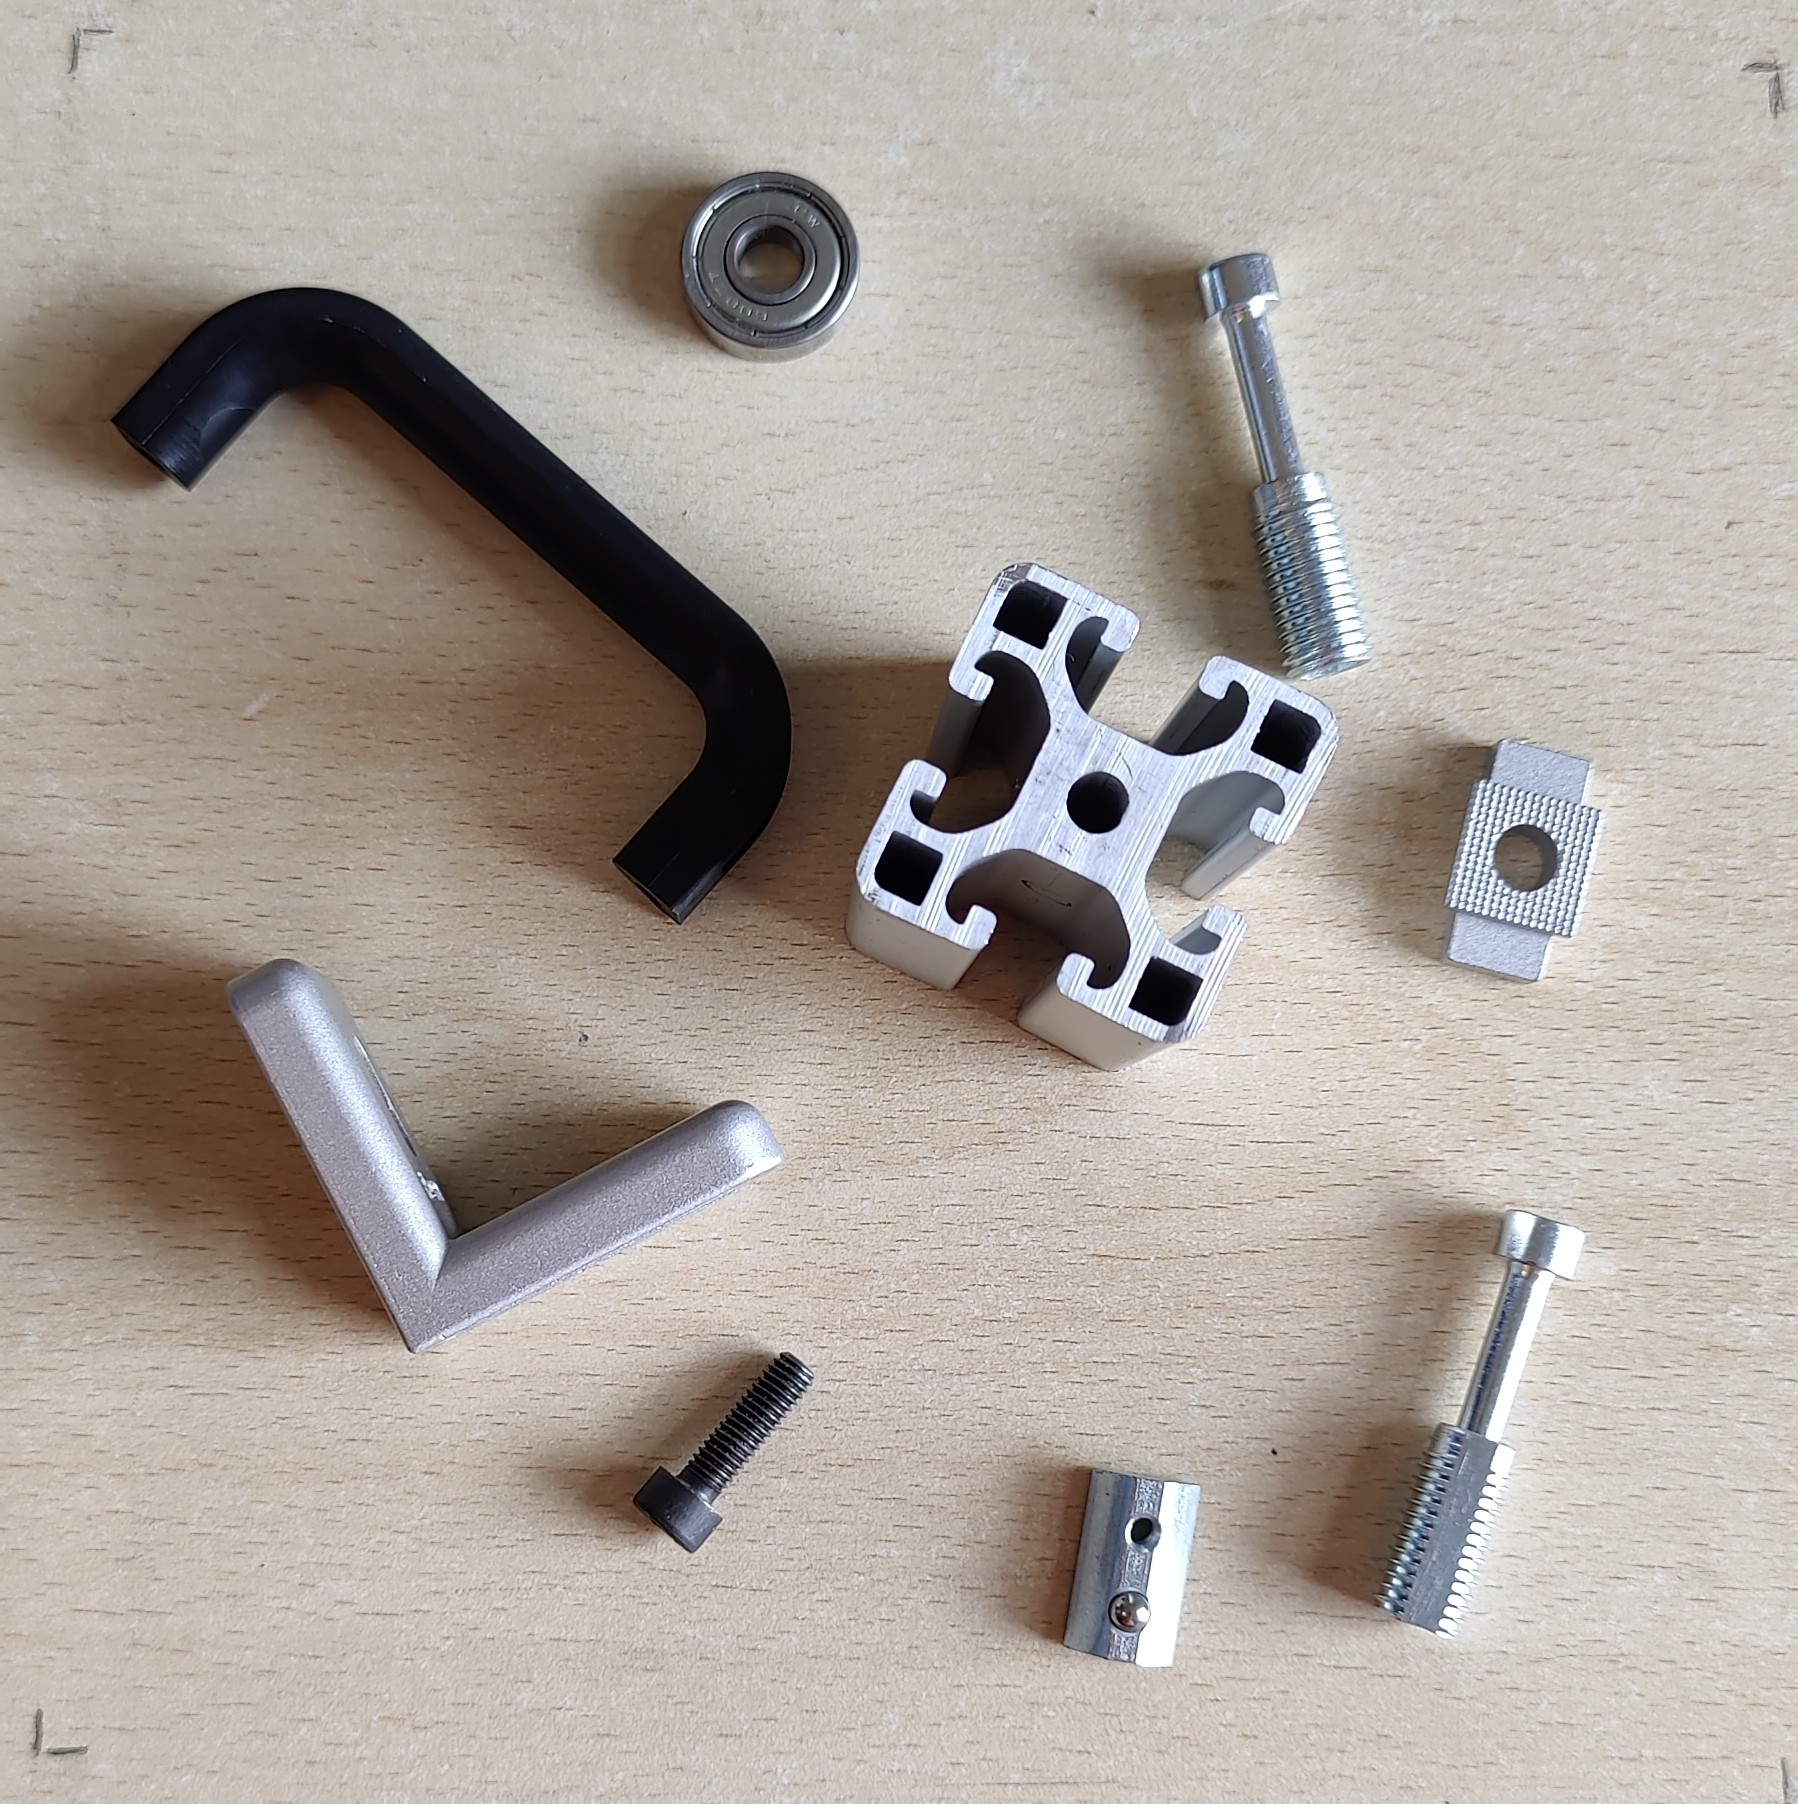Aluminium Extension: (840, 560, 1340, 1075)
Ball Bearing: (678, 168, 863, 367)
Multiwinkel: (226, 956, 789, 1355)
Pull Handle: (107, 286, 795, 930)
Shoulder Socket Head Cap Screw: (1370, 1205, 1589, 1644), (1195, 249, 1376, 685)
Socket Head Cap Screw: (631, 1346, 818, 1555)
T Nut Square: (1439, 737, 1604, 988)
T Spring Nut: (1055, 1463, 1204, 1671)
